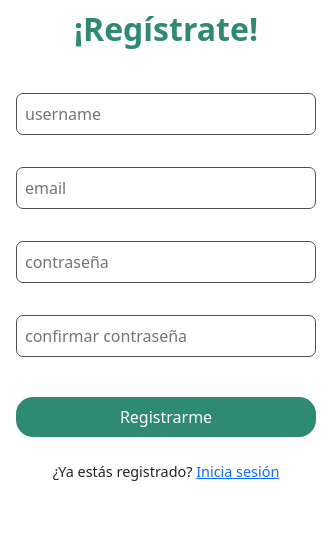
NewUser Component Test › shows error for short username test
Type "abc" into the field with placeholder "username" at coordinates (166, 114), box [16,93,316,135]
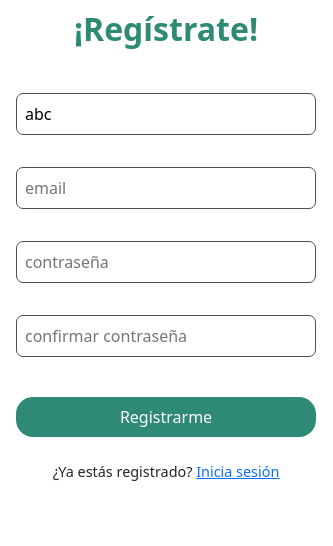
Type "user@example.com" into the field with placeholder "email" at coordinates (166, 188), box [16,167,316,209]
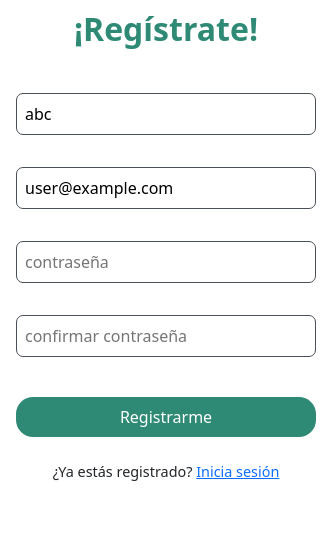
Type "12345" into the password field with placeholder "contraseña" at coordinates (166, 262), box [16,241,316,283]
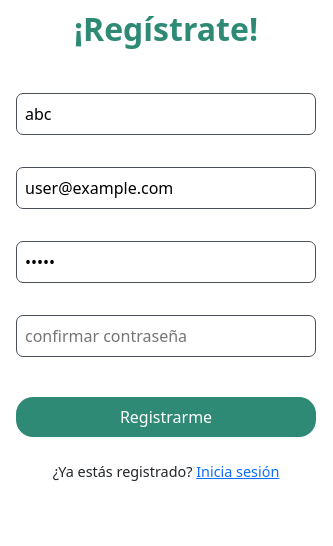
Type "12345" into the password field with placeholder "confirmar contraseña" at coordinates (166, 336), box [16,315,316,357]
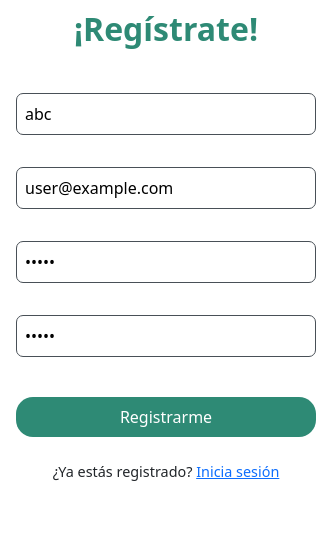
Click the button "Registrarme" at coordinates (166, 417), box [16,397,316,437]
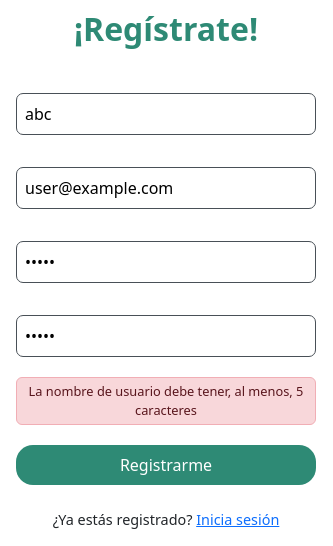
Expected: the text "La nombre de usuario debe tener, al menos, 5 caracteres" is shown, [16,377,316,425]
